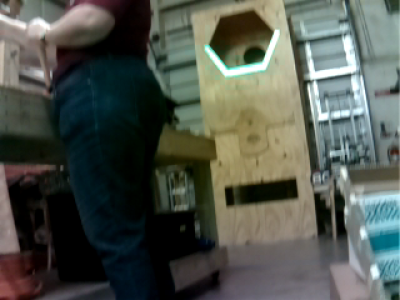target: (205, 30, 279, 76)
